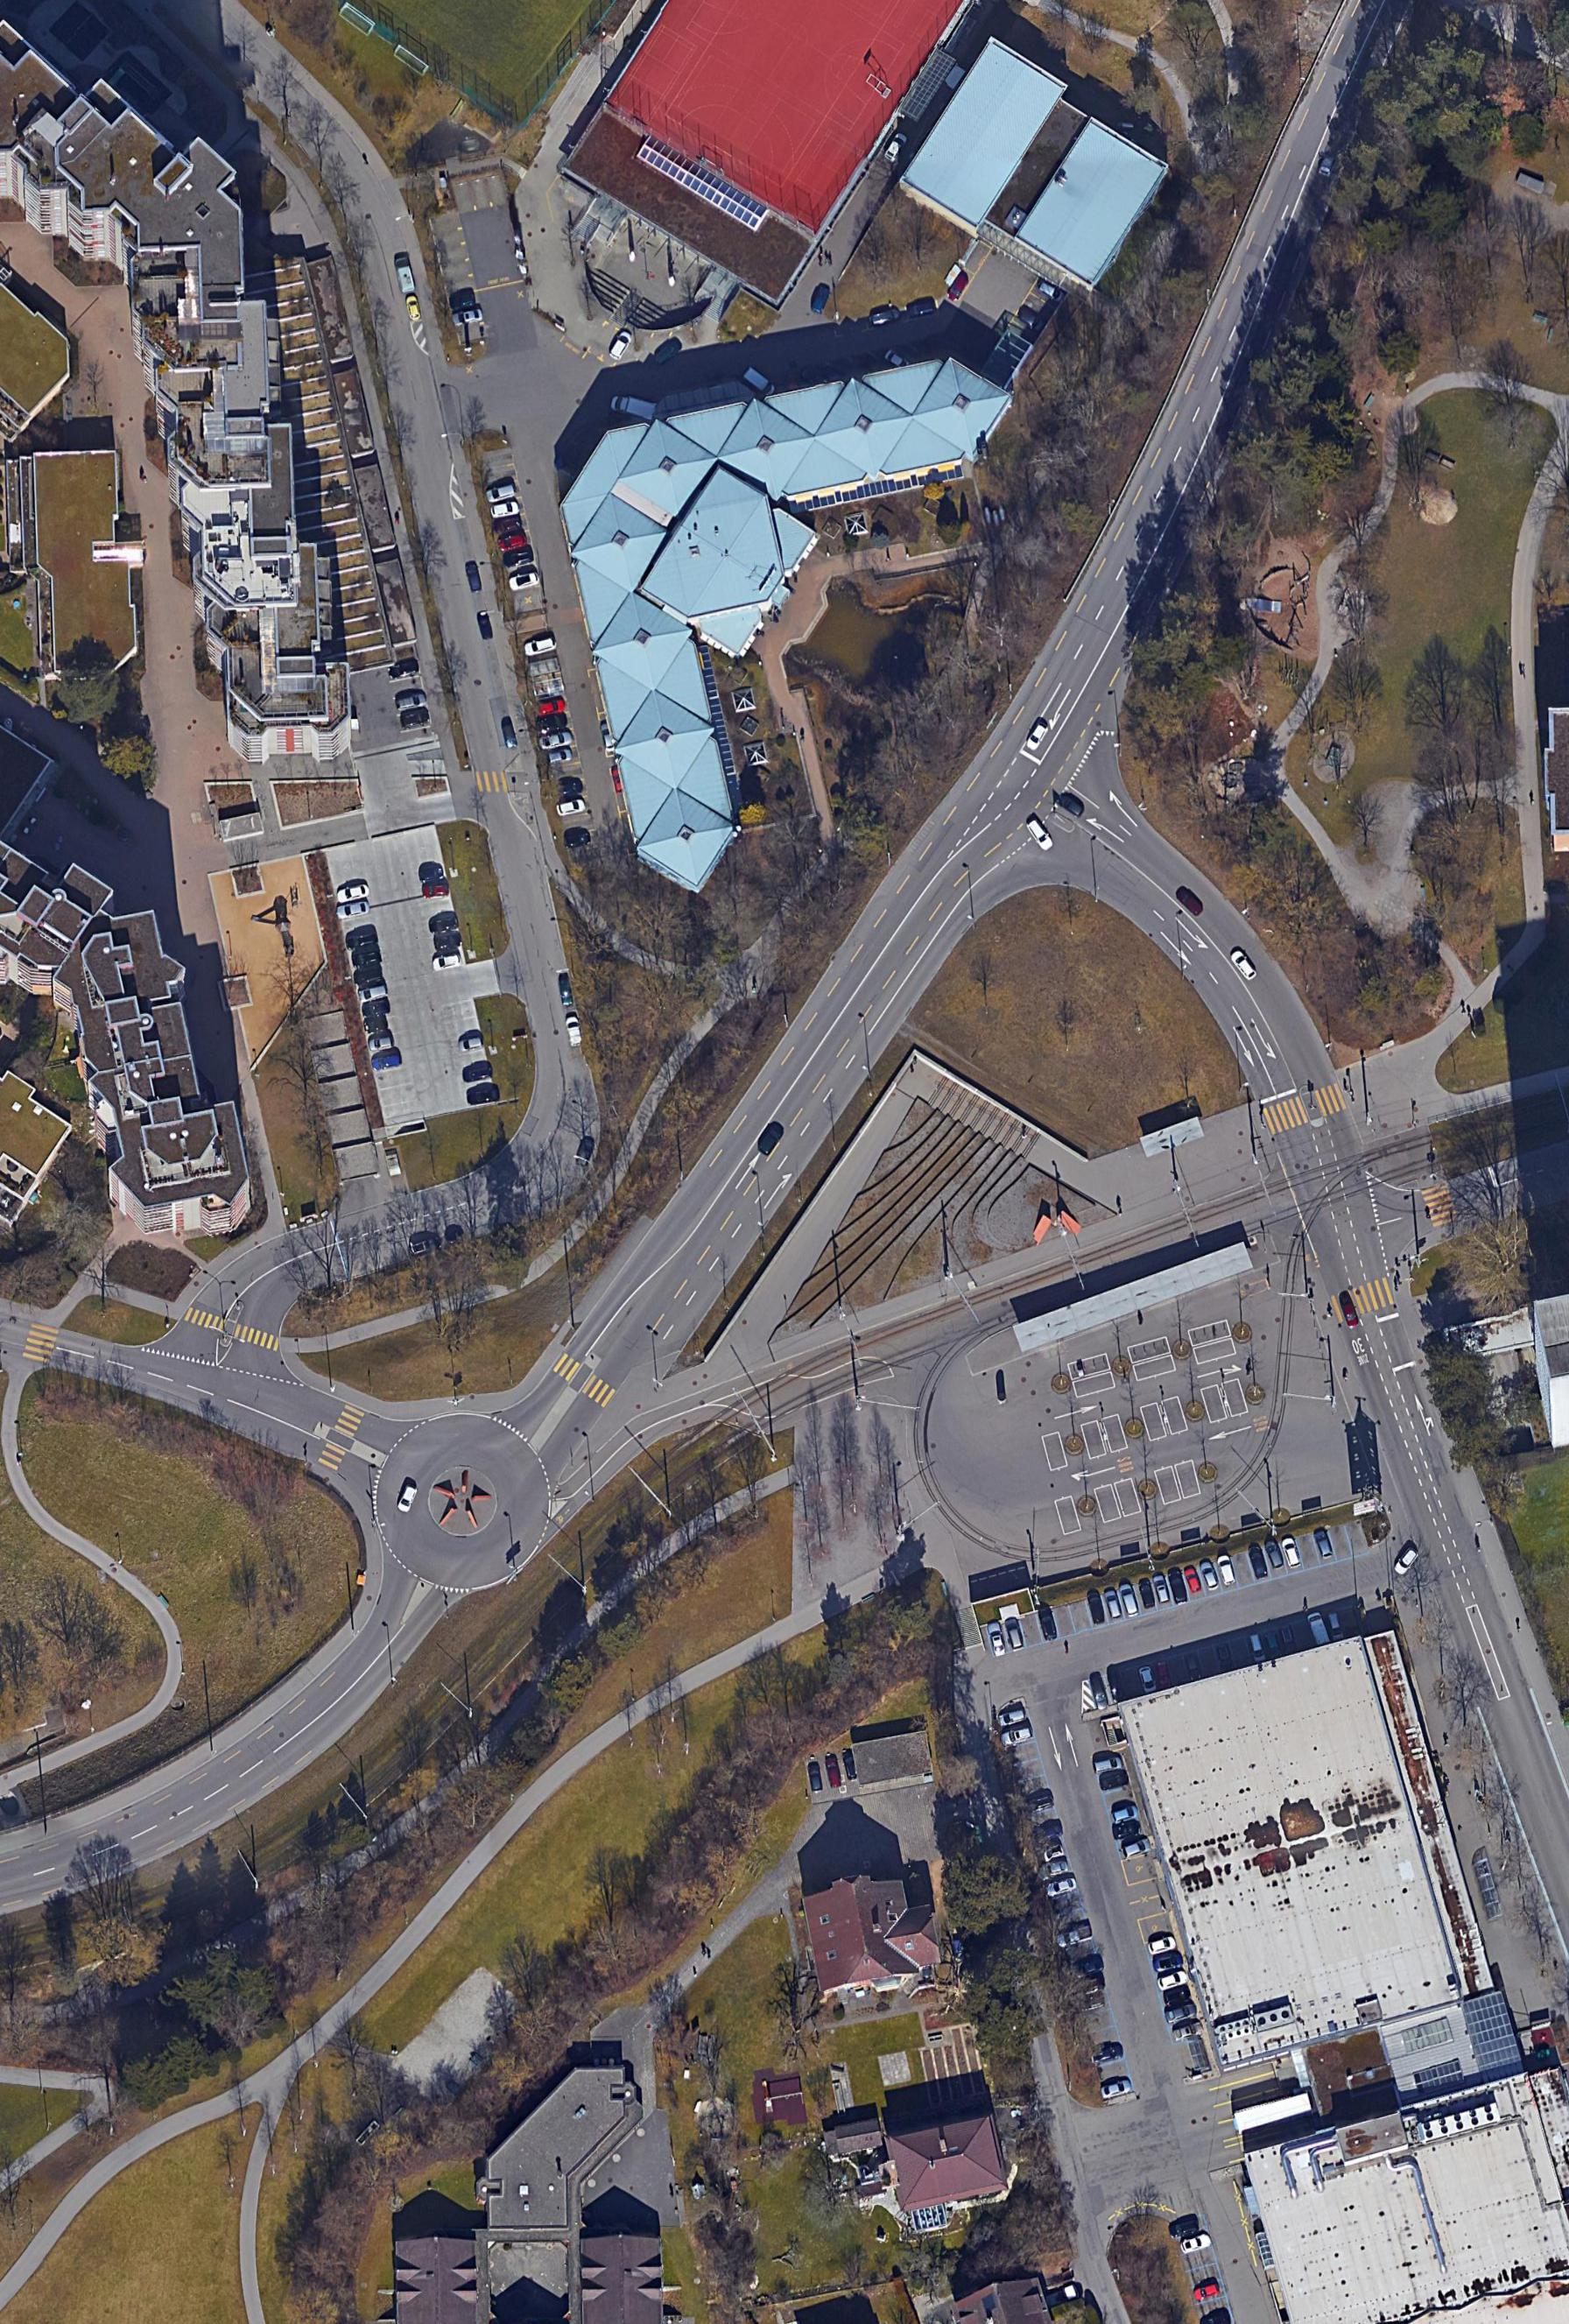ship: (1054, 1925, 1094, 1951)
